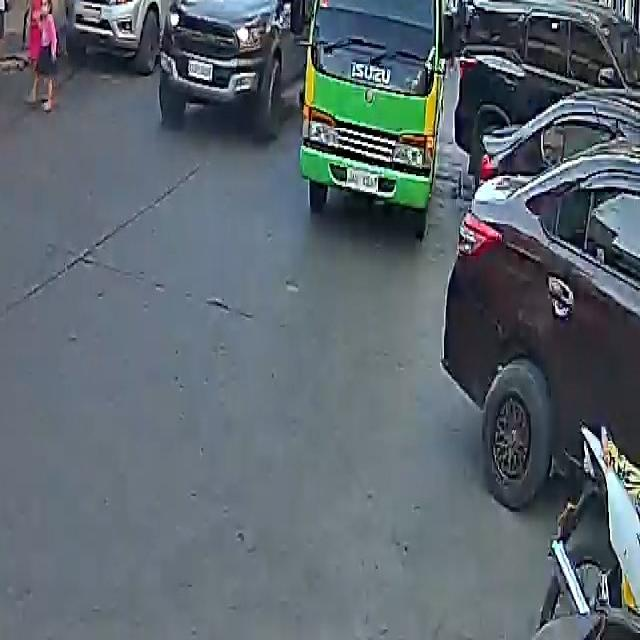car: (443, 1, 640, 570), (452, 0, 640, 187), (156, 0, 319, 119), (67, 0, 201, 71)
